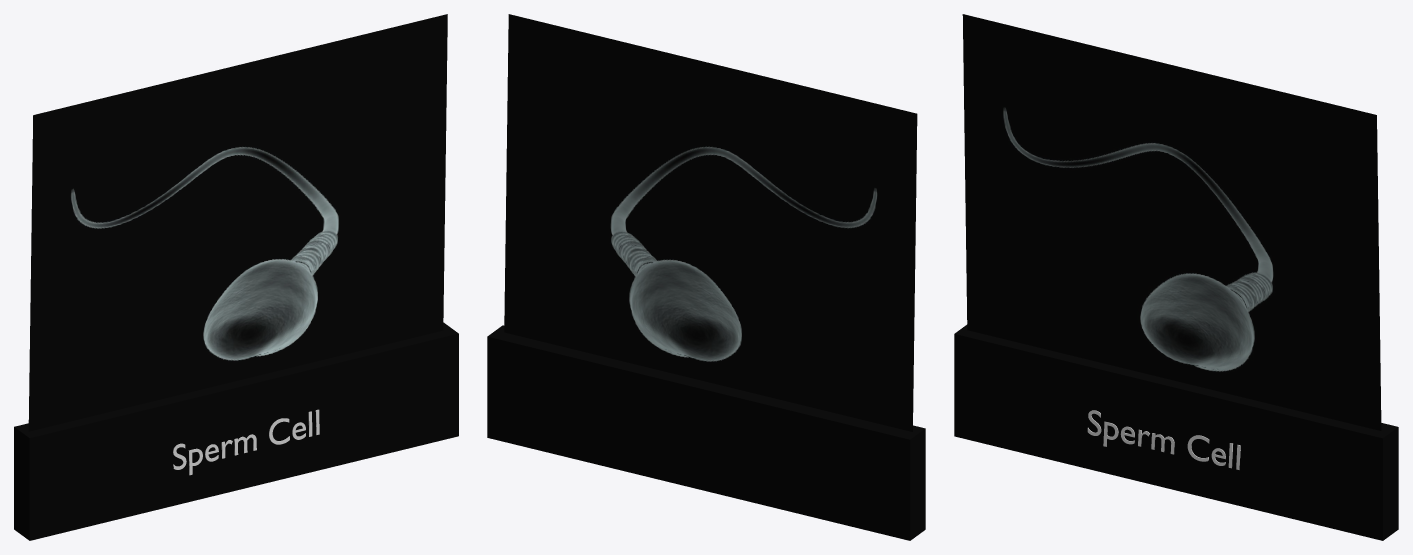
File: spermmy.gltf
3 renders of one model, left to right at view 1: azimuth 30°, elevation 25°; view 2: azimuth 150°, elevation 25°; view 3: azimuth 330°, elevation 25°, orthographic.
Parts seen in each view (by area): view 1: spermkkk, Cube.007, Text.006; view 2: spermkkk, Cube.007; view 3: spermkkk, Cube.007, Text.006.
Boxes of the visible parts, <box> form: spermkkk: <box>28,14,447,431</box>; Cube.007: <box>14,322,458,540</box>; Text.006: <box>173,409,319,475</box>; spermkkk: <box>504,14,917,431</box>; Cube.007: <box>487,325,925,540</box>; spermkkk: <box>962,14,1381,430</box>; Cube.007: <box>954,324,1398,540</box>; Text.006: <box>1087,410,1240,469</box>.
Size of the model in its own units: 3.34 by 3.14 by 0.2845.
2 materials, 1 textured.
